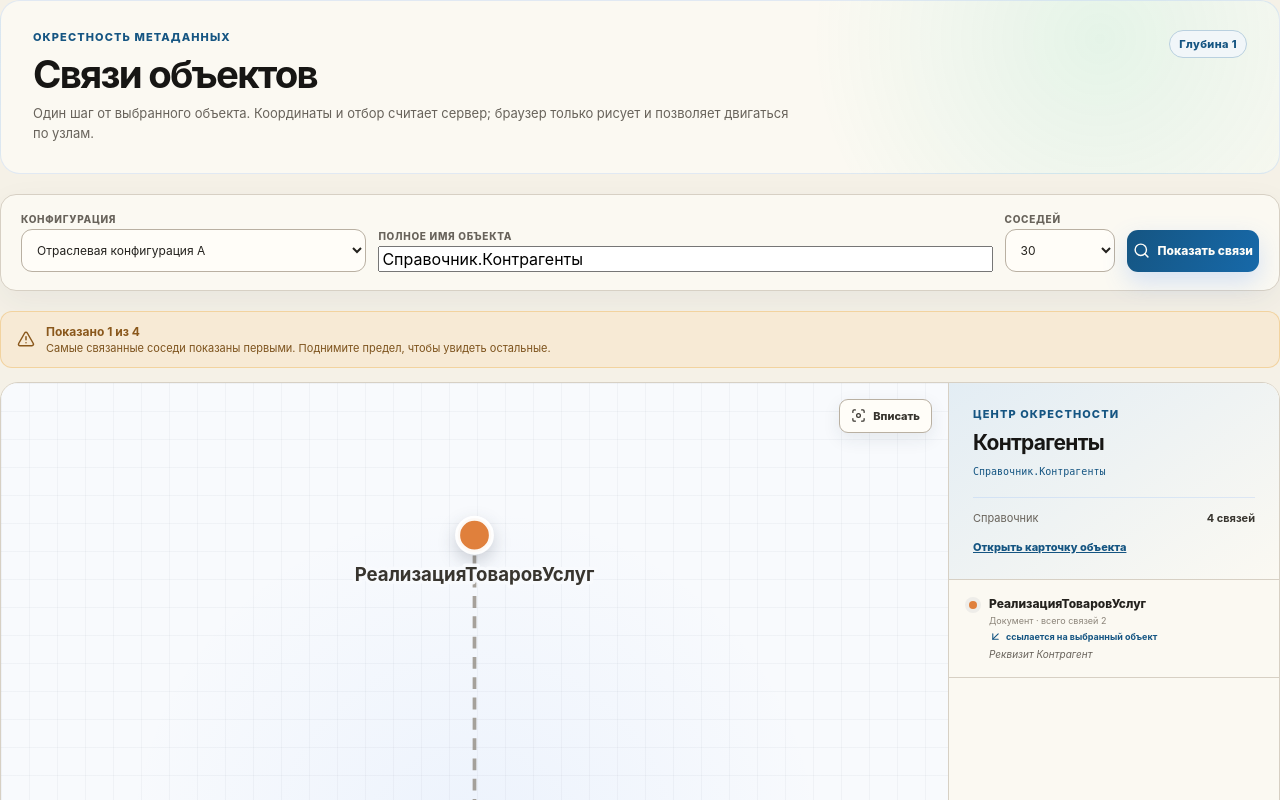
Test case: клик по соседу перестраивает тот же прямой адрес
Click the link with aria-label "Построить вокруг Документ.РеализацияТоваровУслуг" at (1068, 604), box x1=989 y1=596 x2=1146 y2=611
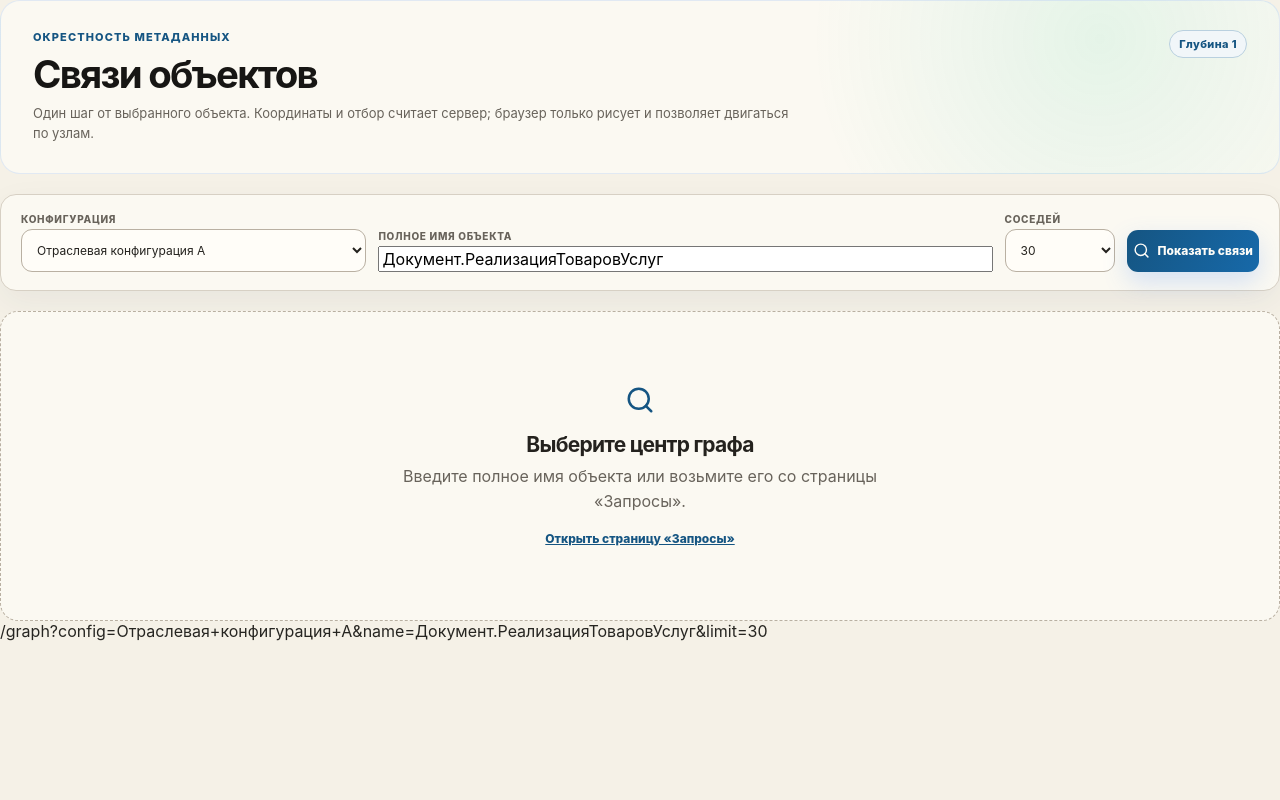
Result: the text named "Текущий адрес" shows "name=Документ.РеализацияТоваровУслуг" at x1=0 y1=620 x2=768 y2=640
